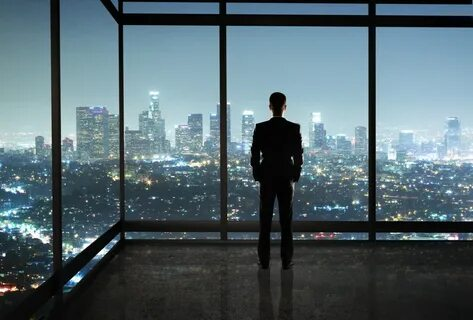awake: (249, 90, 304, 271)
